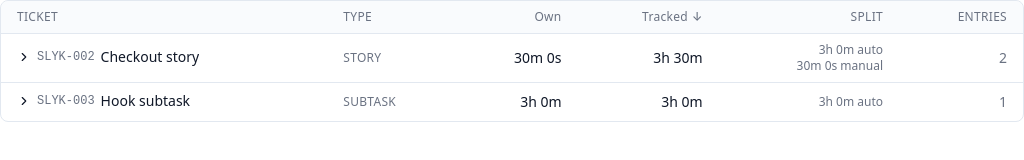
Scenario: NodeBreakdownTable (CR-05) › re-sorts by own time when the Own header is clicked
Click the button "Own".
click(548, 17)  # box left=534, top=9, right=562, bottom=25
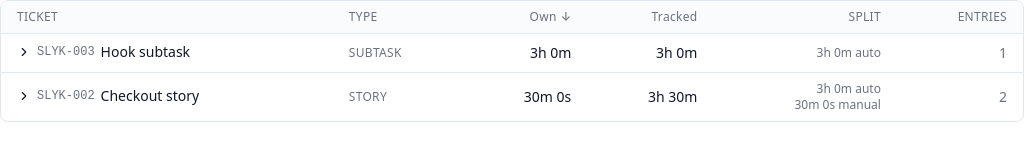
Expected: the row "SLYK-003 Hook subtask Subtask 3h 0m 3h 0m 3h 0m auto 1" is shown, left=1, top=34, right=1023, bottom=72
